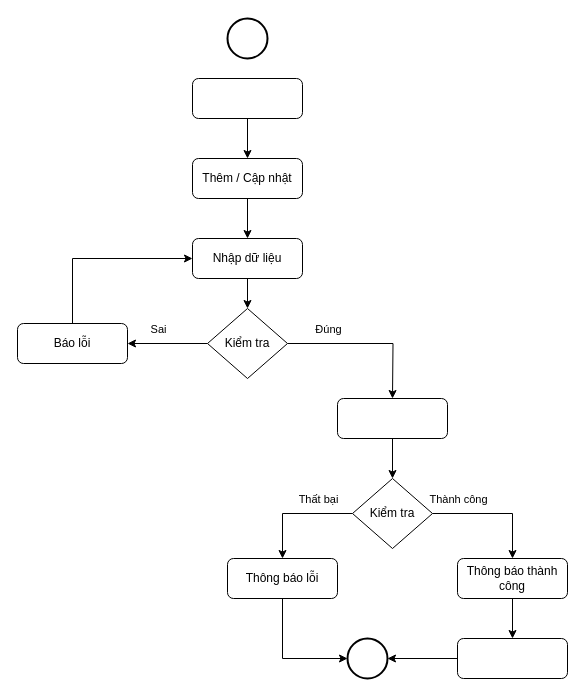
This 585x696 diagram has some shape labels left out. The shapes that lost their labels are listed below. From the top down, each one's box as (x1, y1, x2, y2) in pixels, then its label:
(192, 78, 302, 118): Đặc trưng Admin
(336, 398, 448, 438): Lưu
(456, 638, 568, 678): Lấy dữ liệu mới
